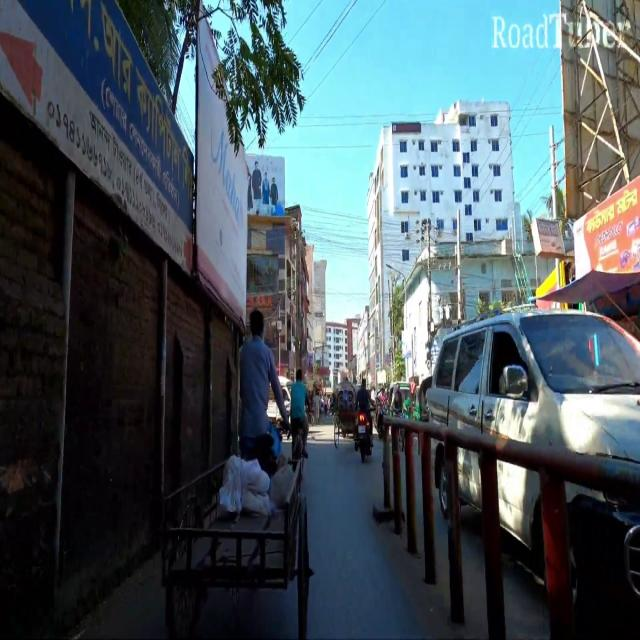white: (425, 309, 640, 593)
